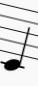note: (1, 1, 31, 75)
